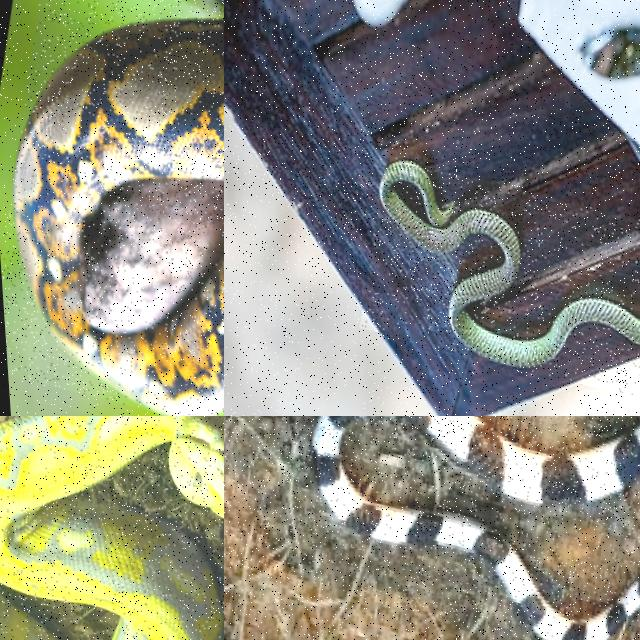Bungarus candidus: (312, 416, 639, 639)
Chrysopelea ornata: (380, 159, 639, 367)
Malayopython reticulatus: (14, 19, 223, 415), (0, 416, 223, 639)
